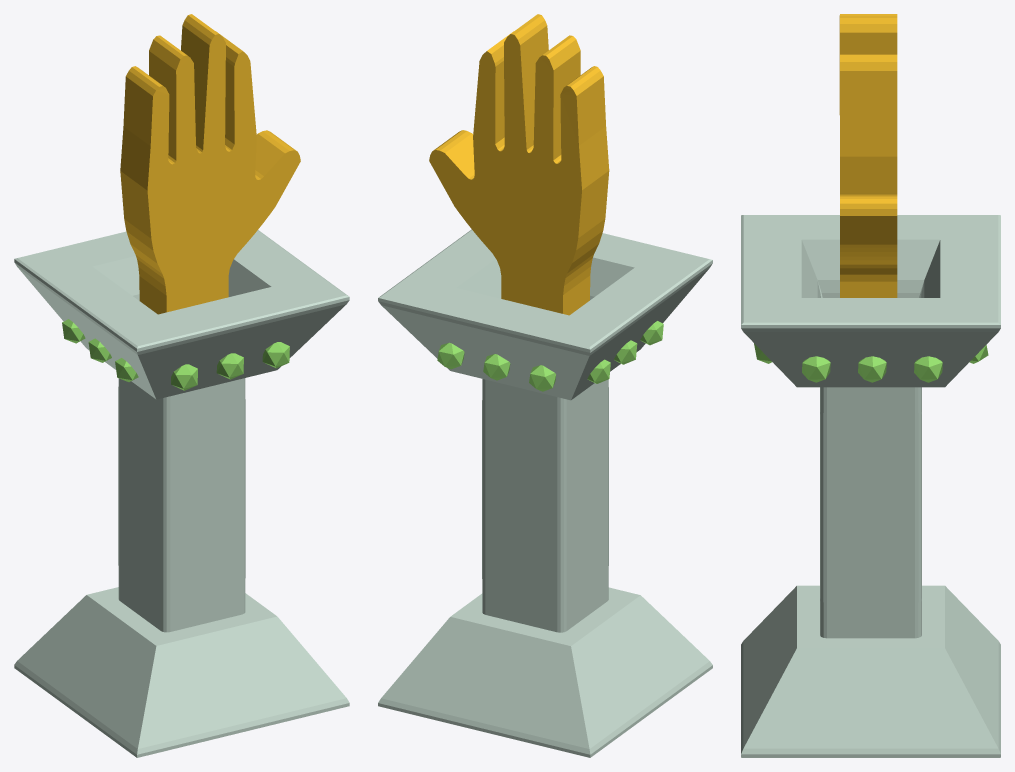
Rendered from G477Proj2Podium.fbx.
3 views of the same model, side by side, from view 1: azimuth 30°, elevation 25°; view 2: azimuth 150°, elevation 25°; view 3: azimuth 270°, elevation 25° (orthographic). The views are drawn at different scales.
Visible parts, largest first — view 1: Hand.001; view 2: Hand.001; view 3: Hand.001.
Part boxes in pixels (<box>): Hand.001: <box>14,14,349,757</box>; Hand.001: <box>378,14,712,757</box>; Hand.001: <box>741,14,1000,757</box>.
Bounding box in the file's own units: 46.35 × 137 × 46.35.
